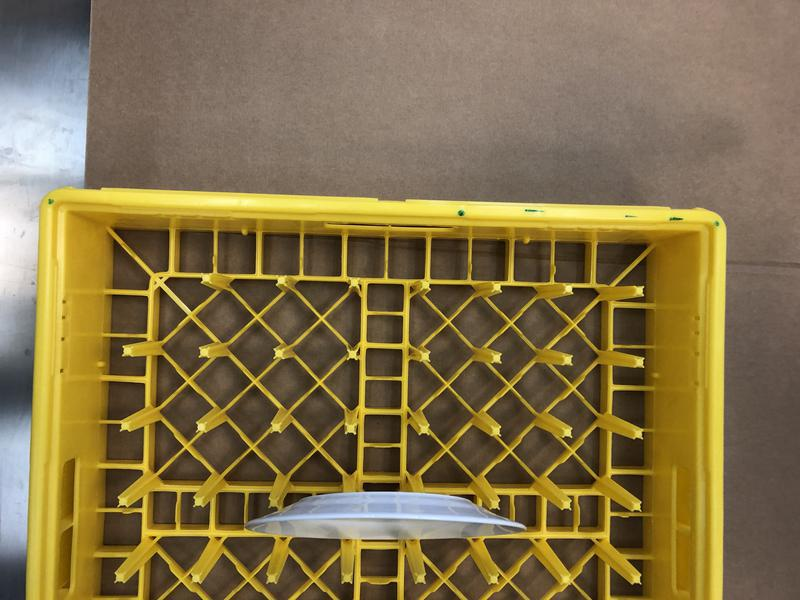Dish: (242, 489, 527, 543)
